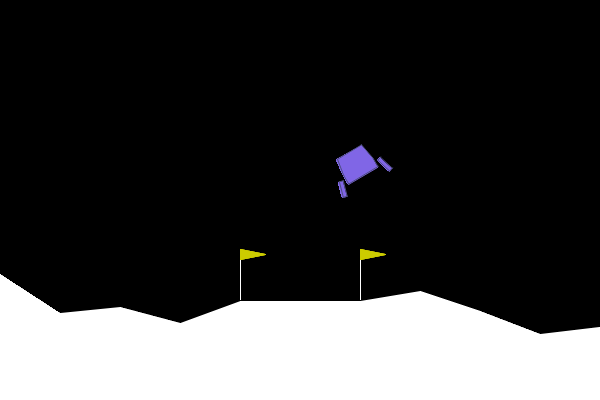lander: (322, 135, 394, 200)
